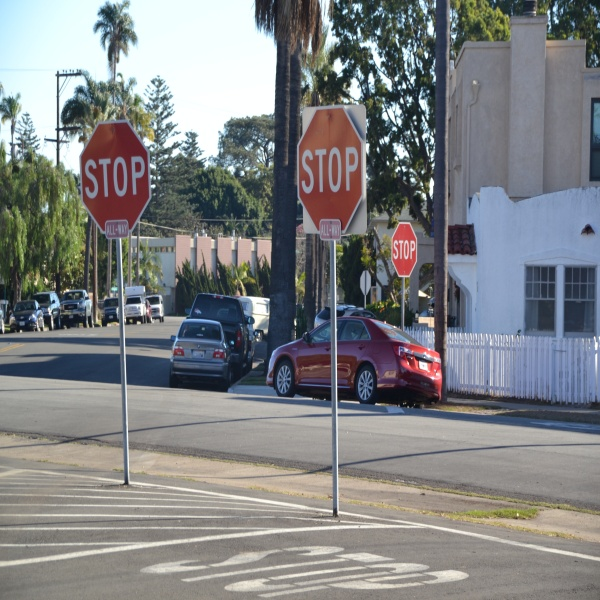stop: (293, 103, 369, 238), (75, 120, 152, 235)
